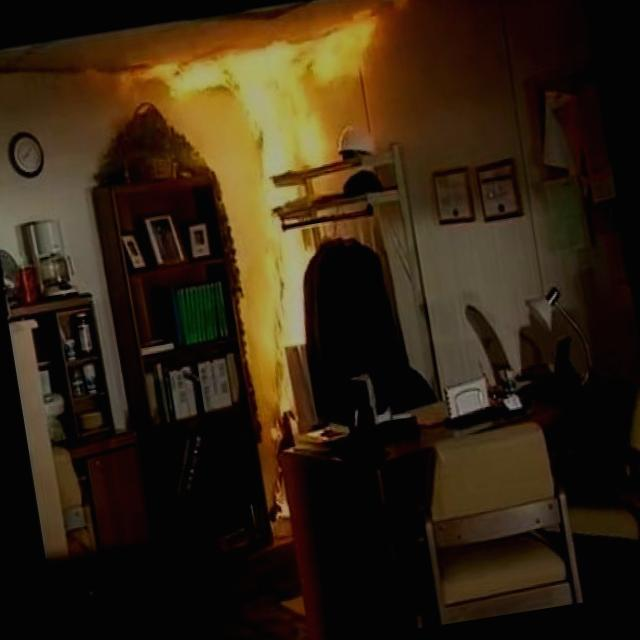fire: (157, 18, 374, 216)
